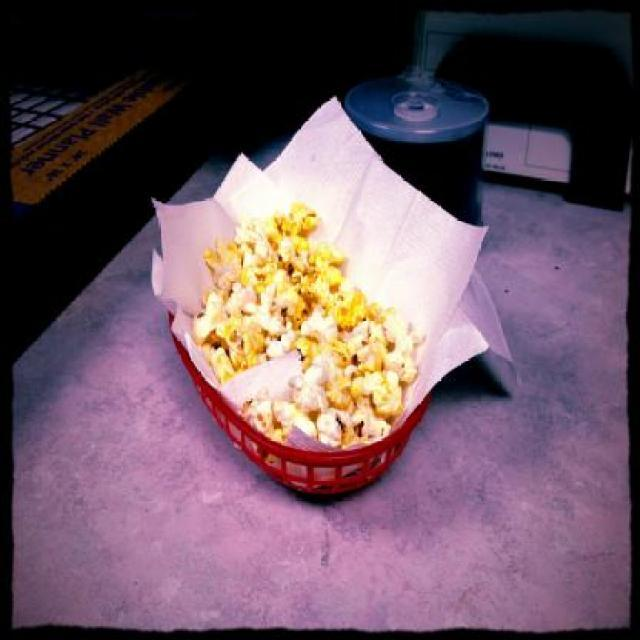Popcorn: (194, 200, 423, 462)
